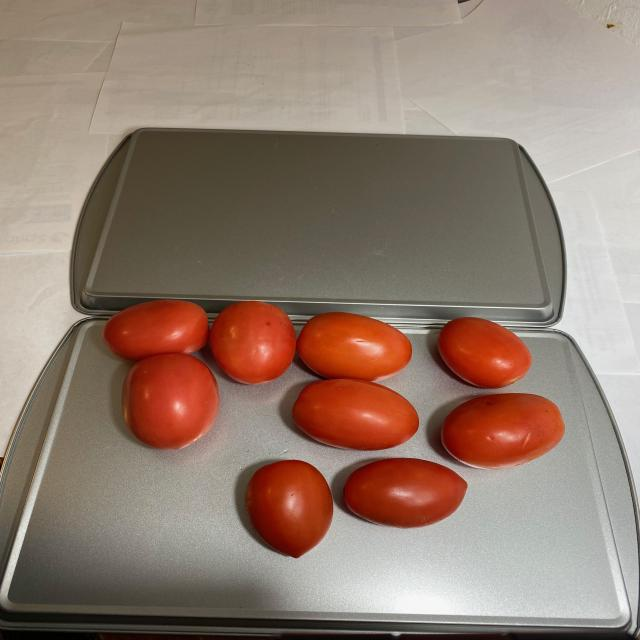tomato: (101, 301, 566, 560)
